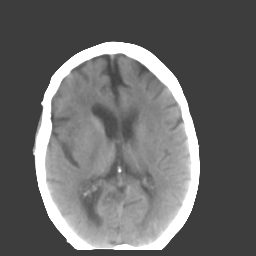ischemic: (52, 85, 101, 224)
